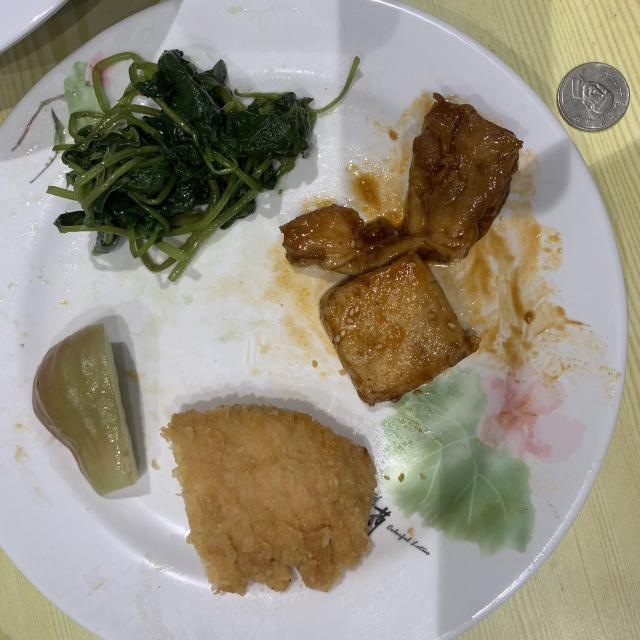coin: (558, 62, 630, 131)
creamy tofu: (281, 94, 522, 405)
fried chicken cutlet: (161, 404, 376, 595)
sweet potato leaves: (48, 50, 318, 280)
